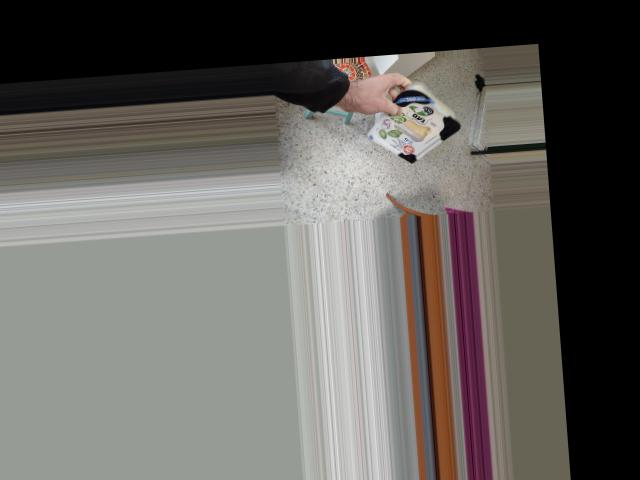cheese: (377, 63, 461, 174)
